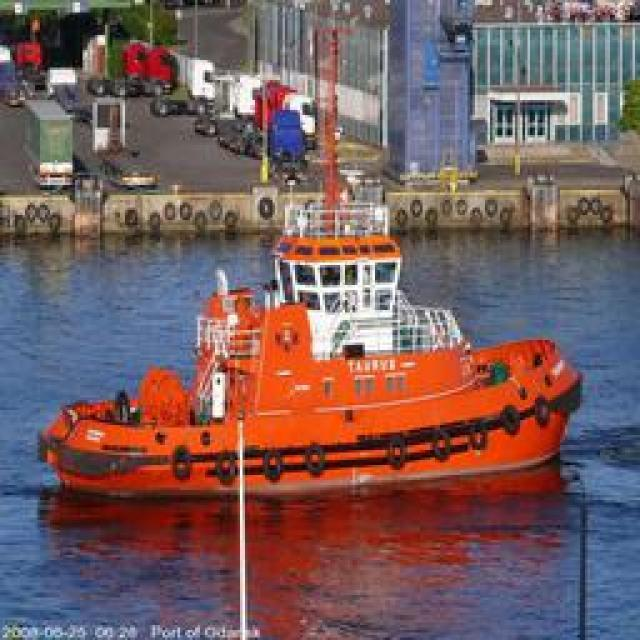CIV_Ship: (40, 204, 582, 496)
